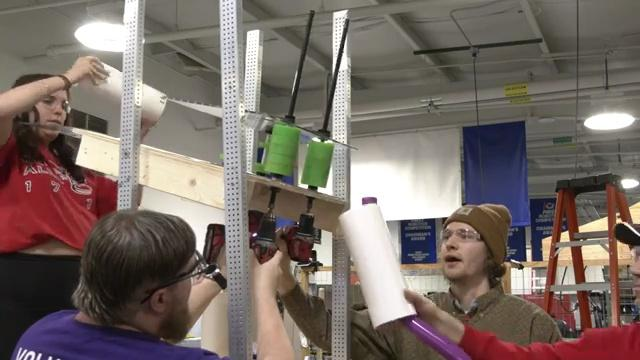CORAL: (338, 203, 417, 331), (83, 63, 167, 120)
